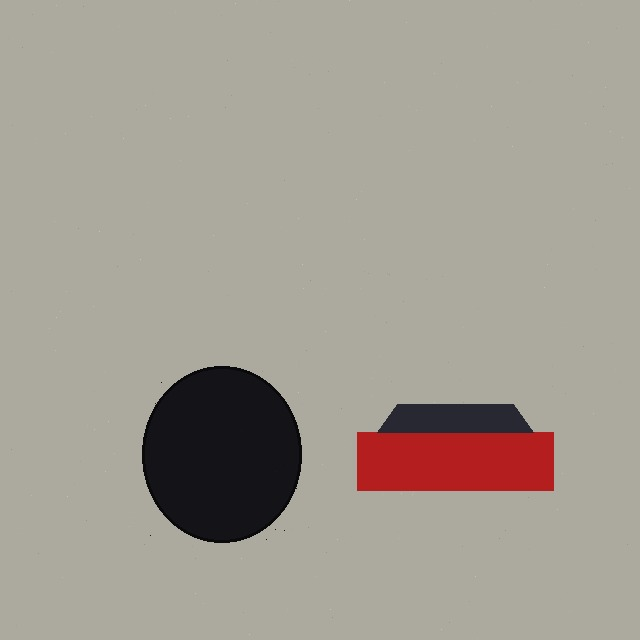pothole: (142, 366, 301, 542)
vehicle: (357, 404, 553, 490)
